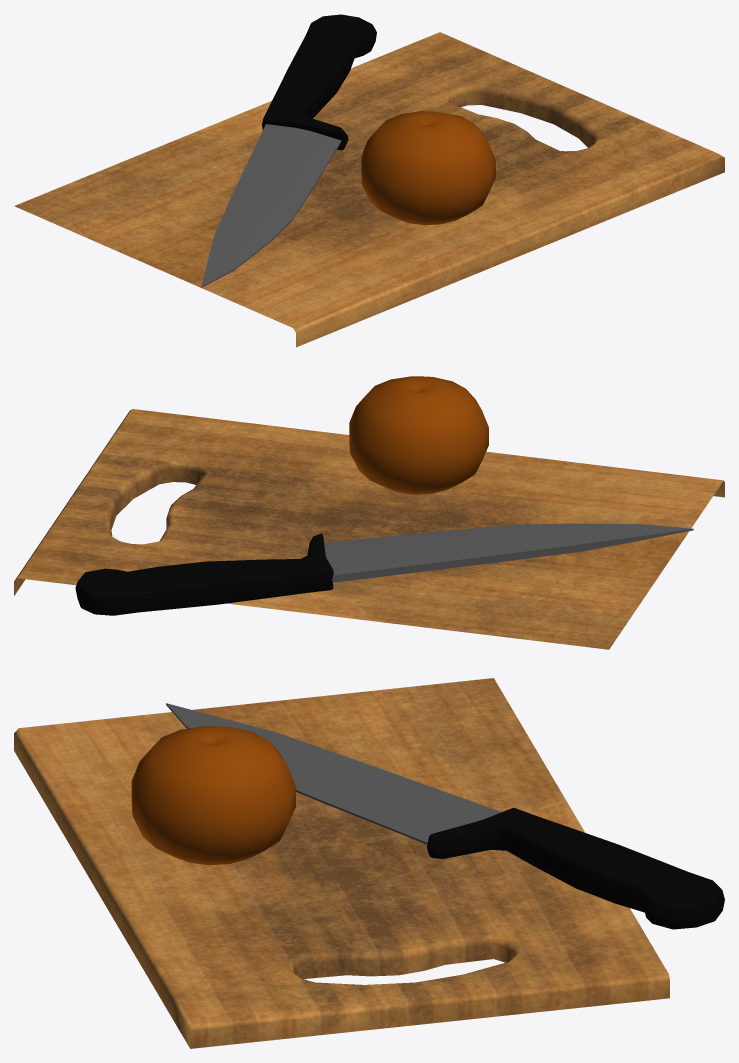
Rendered from plancheDecoupe_FBX.fbx.
3 views of the same model, one above another, from view 1: azimuth 30°, elevation 25°; view 2: azimuth 150°, elevation 25°; view 3: azimuth 270°, elevation 25° (orthographic). The views are drawn at different scales.
Parts seen in each view (by area): view 1: PlancheDecouper, Tomate, Lame, Manche; view 2: PlancheDecouper, Tomate, Lame, Manche; view 3: PlancheDecouper, Tomate, Manche, Lame.
Boxes of the visible parts, x1=… form: PlancheDecouper: x1=14, y1=32, x2=724, y2=347; Tomate: x1=361, y1=111, x2=495, y2=225; Lame: x1=201, y1=124, x2=341, y2=287; Manche: x1=262, y1=14, x2=376, y2=150; PlancheDecouper: x1=14, y1=409, x2=724, y2=649; Tomate: x1=349, y1=376, x2=488, y2=494; Lame: x1=324, y1=523, x2=693, y2=582; Manche: x1=75, y1=533, x2=333, y2=615; PlancheDecouper: x1=14, y1=678, x2=669, y2=1048; Tomate: x1=131, y1=726, x2=295, y2=865; Manche: x1=427, y1=808, x2=724, y2=929; Lame: x1=166, y1=703, x2=501, y2=844.
Size of the model in its own units: 2.13 by 0.3964 by 1.84.
Materials: 4 (1 with a texture image).
